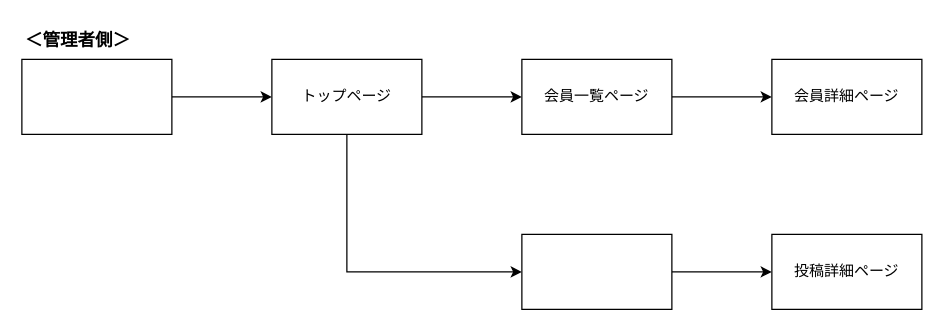
Some shapes in this 944 by 331 pixel diagram are drawn without their labels. Here are the shapes that lost their labels. From the top down, the centre of each, then its label:
the point at 96,96: ログインページ
the point at 596,271: 投稿一覧ページ
